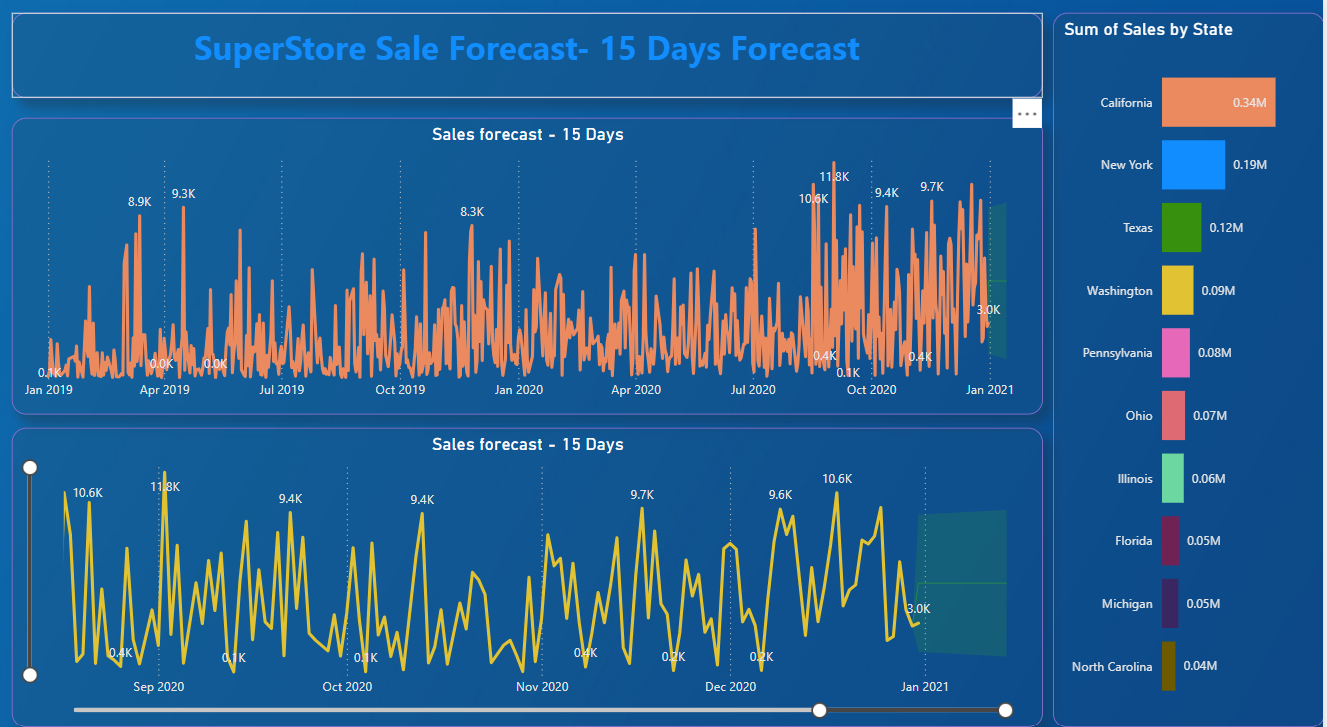

What the dashboard file says about the page in this screenshot:
{"tool":"powerbi","page":{"name":"Page 2","canvas":[1280,720],"ordinal":1},"visuals":[{"type":"lineChart","title":"Sales forecast - 15 Days","fields":{"Y":["Sum(Sheet1.Sales)"],"Category":["Sheet1.Order Date"]},"box":[13.7,119.4,994.9,286.8],"z":0},{"type":"lineChart","title":"Sales forecast - 15 Days","fields":{"Y":["Sum(Sheet1.Sales)"],"Category":["Sheet1.Order Date"]},"box":[13.7,418.5,994.9,289.5],"z":1000},{"type":"clusteredBarChart","fields":{"Category":["Sheet1.State"],"Y":["Sum(Sheet1.Sales)"]},"box":[1018.2,17.8,262.1,690.2],"z":2000},{"type":"textbox","box":[13.7,17.8,994.9,82.3],"z":2001}]}

Visuals, with their boxes in screenshot pixels (x1, y1, x2, y2), scaled from the page's 1280x720 canvas onto the 1327x727 screenshot:
"Sales forecast - 15 Days" lineChart: rect(14, 121, 1046, 410)
"Sales forecast - 15 Days" lineChart: rect(14, 423, 1046, 715)
clusteredBarChart - Sheet1.State x Sum(Sheet1.Sales): rect(1056, 18, 1326, 715)
textbox: rect(14, 18, 1046, 101)
